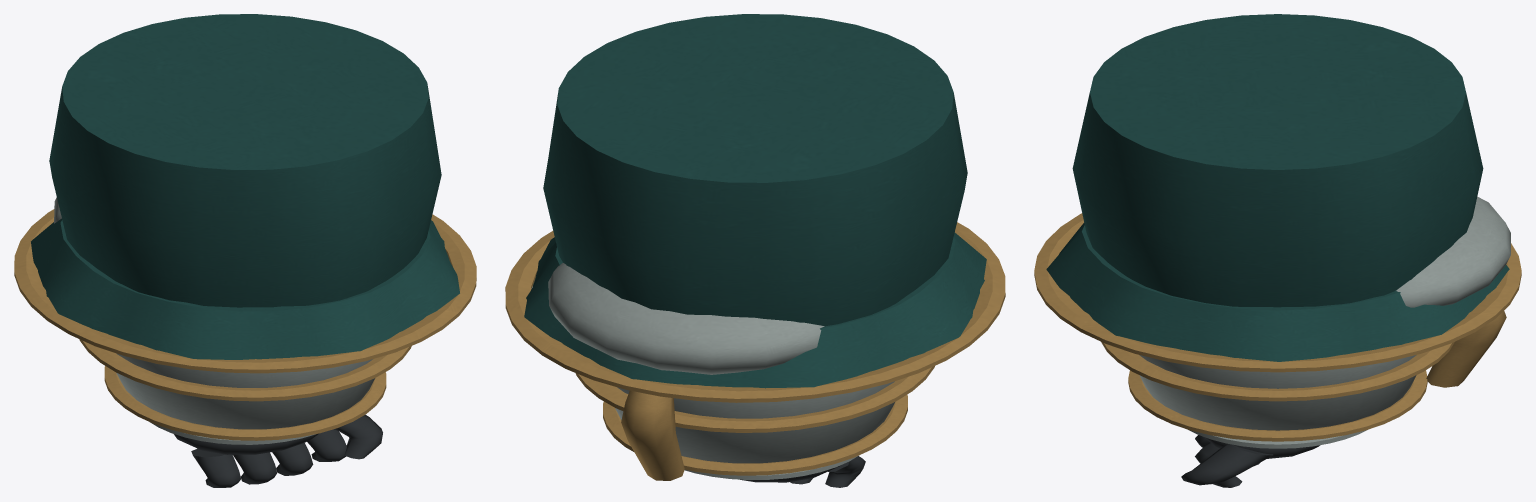
The model's file is hero_soulbinder_arm.glb.
3 views of the same model, side by side, from view 1: azimuth 30°, elevation 25°; view 2: azimuth 150°, elevation 25°; view 3: azimuth 270°, elevation 25° (orthographic). The views are drawn at different scales.
Parts seen in each view (by area): view 1: hero_soulbinder_arm soulbinder petrol velvet, hero_soulbinder_arm dull relic gold, hero_soulbinder_arm funerary tarnished silver, hero_soulbinder_arm charcoal cloth; view 2: hero_soulbinder_arm soulbinder petrol velvet, hero_soulbinder_arm funerary tarnished silver, hero_soulbinder_arm dull relic gold, hero_soulbinder_arm charcoal cloth; view 3: hero_soulbinder_arm soulbinder petrol velvet, hero_soulbinder_arm dull relic gold, hero_soulbinder_arm funerary tarnished silver, hero_soulbinder_arm charcoal cloth.
Boxes of the visible parts, box(x1,y1,x2,y2) form: hero_soulbinder_arm soulbinder petrol velvet: box(31, 14, 459, 359); hero_soulbinder_arm dull relic gold: box(14, 209, 476, 440); hero_soulbinder_arm funerary tarnished silver: box(54, 197, 375, 444); hero_soulbinder_arm charcoal cloth: box(174, 414, 382, 487); hero_soulbinder_arm soulbinder petrol velvet: box(524, 14, 986, 388); hero_soulbinder_arm funerary tarnished silver: box(548, 263, 894, 479); hero_soulbinder_arm dull relic gold: box(505, 222, 1005, 480); hero_soulbinder_arm charcoal cloth: box(740, 456, 865, 487); hero_soulbinder_arm soulbinder petrol velvet: box(1046, 14, 1509, 361); hero_soulbinder_arm dull relic gold: box(1034, 213, 1521, 441); hero_soulbinder_arm funerary tarnished silver: box(1139, 196, 1510, 448); hero_soulbinder_arm charcoal cloth: box(1181, 435, 1320, 487).
Size of the model in its own units: 1.2 by 1.06 by 1.27.
4 materials, 4 textured.
